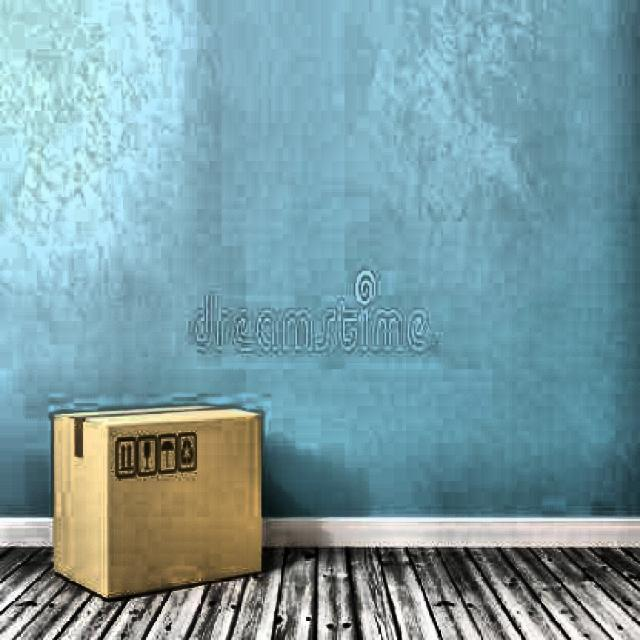Cardbox: (54, 414, 258, 600)
